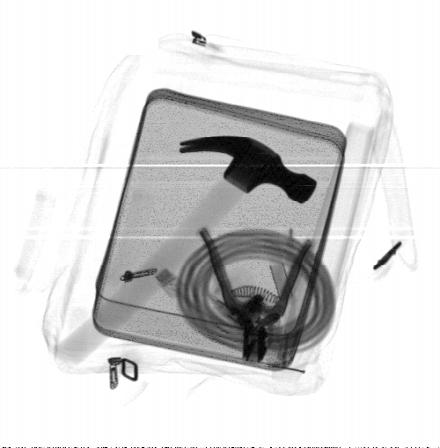Hammer: (53, 135, 319, 367)
Pliers: (197, 225, 313, 365)
